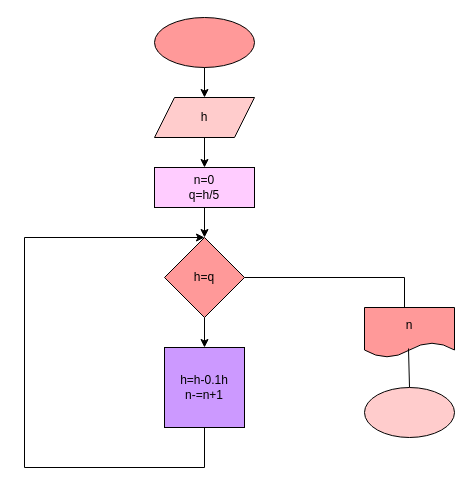
The diagram is 472 pixels wide and 486 high, and some of its shapes have lost their labels. Each missing label, with the centre of its shape:
"fin" belongs at (409,412).
"inicio" belongs at (204,42).
